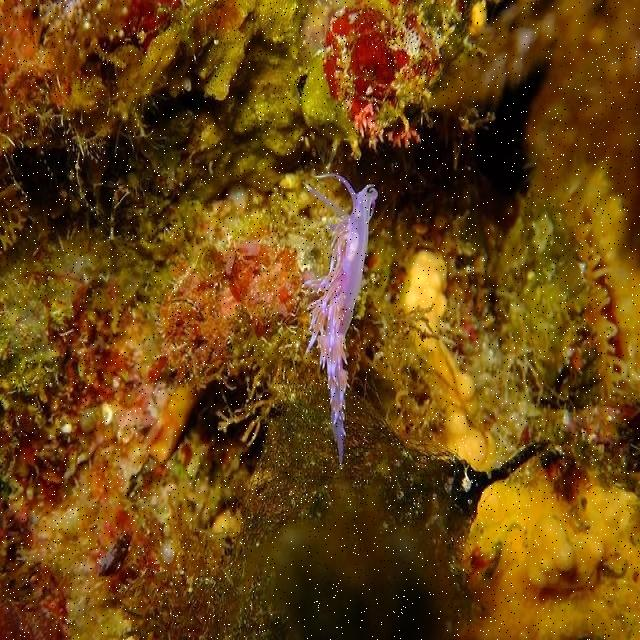reefs: (300, 172, 380, 471)
